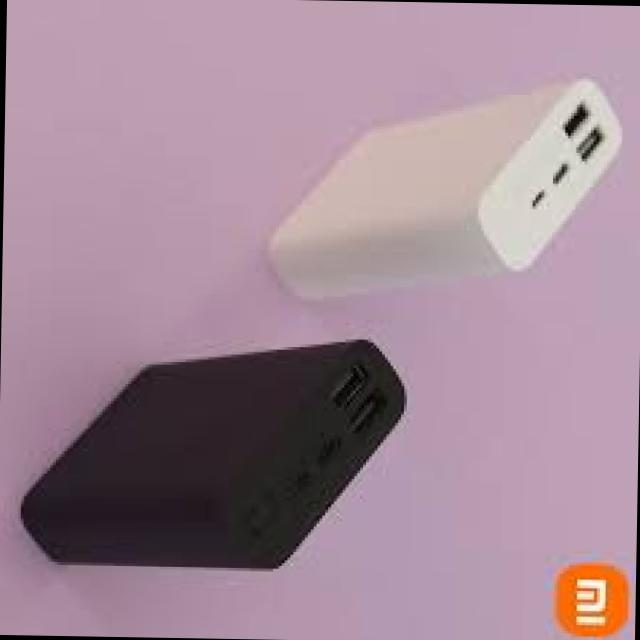portable-charger: (16, 338, 413, 574), (255, 72, 631, 314)
